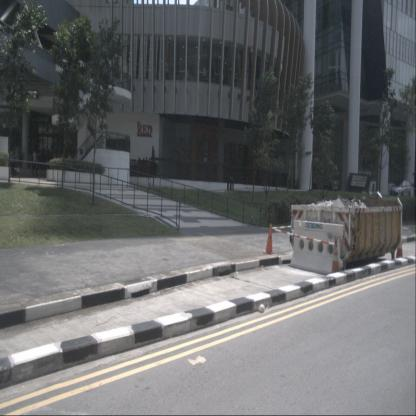barrier: (290, 220, 344, 276)
cone: (330, 237, 341, 277), (263, 223, 275, 254)
